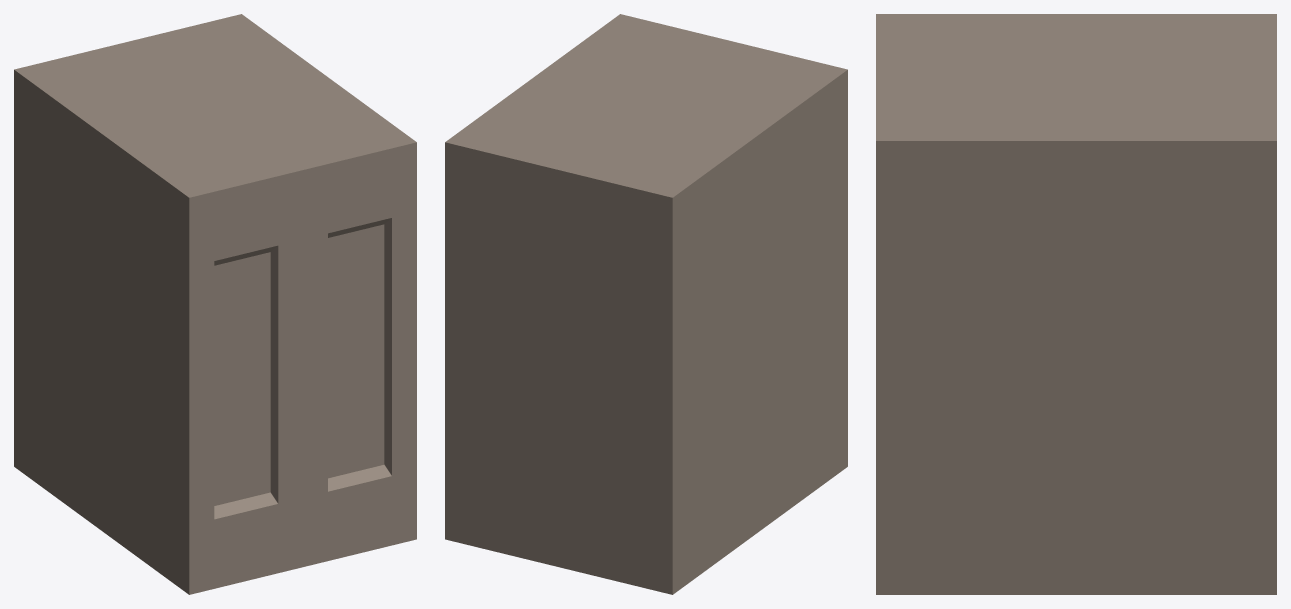
Rendered from 12-15-High-12-Deep_std_001_W9in_1D.glb.
3 views of the same model, side by side, from view 1: azimuth 30°, elevation 25°; view 2: azimuth 150°, elevation 25°; view 3: azimuth 270°, elevation 25° (orthographic). The views are drawn at different scales.
Visible parts, largest first — view 1: 12-15-High-12-Deep.std.001_W9in_1D; view 2: 12-15-High-12-Deep.std.001_W9in_1D; view 3: 12-15-High-12-Deep.std.001_W9in_1D.
Boxes of the visible parts, bbox=[...] form: 12-15-High-12-Deep.std.001_W9in_1D: bbox=[14, 14, 416, 594]; 12-15-High-12-Deep.std.001_W9in_1D: bbox=[445, 14, 847, 594]; 12-15-High-12-Deep.std.001_W9in_1D: bbox=[876, 14, 1276, 594].
Bounding box in the file's own units: 0.2286 × 0.381 × 0.3048.
